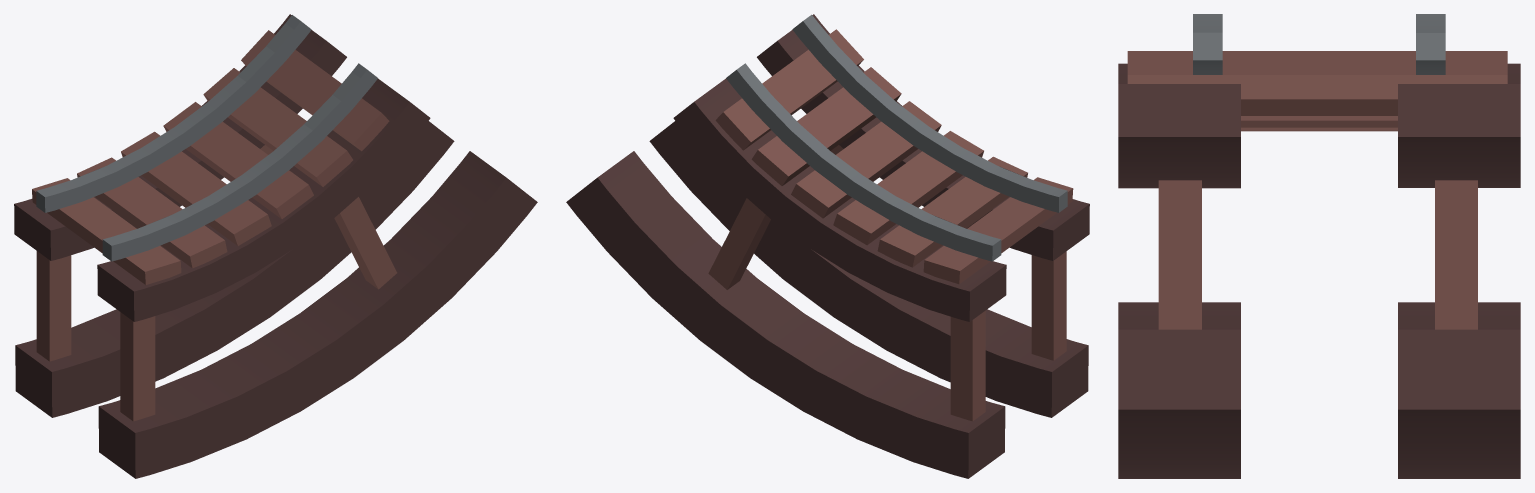
The model's file is DarkRoseWoodMechSharp0_96GaugeRise1.fbx.
The picture shows the model from 3 angles, left to right: view 1: azimuth 30°, elevation 25°; view 2: azimuth 150°, elevation 25°; view 3: azimuth 270°, elevation 25°; orthographic projection. The views are drawn at different scales.
Visible parts, largest first — view 1: DarkRoseWoodMechSharp0_96GaugeRise1; view 2: DarkRoseWoodMechSharp0_96GaugeRise1; view 3: DarkRoseWoodMechSharp0_96GaugeRise1.
Part boxes in pixels (bbox=[...]): DarkRoseWoodMechSharp0_96GaugeRise1: bbox=[14, 14, 537, 478]; DarkRoseWoodMechSharp0_96GaugeRise1: bbox=[566, 14, 1089, 478]; DarkRoseWoodMechSharp0_96GaugeRise1: bbox=[1118, 14, 1520, 478].
Size of the model in its own units: 430 by 337 by 221.
